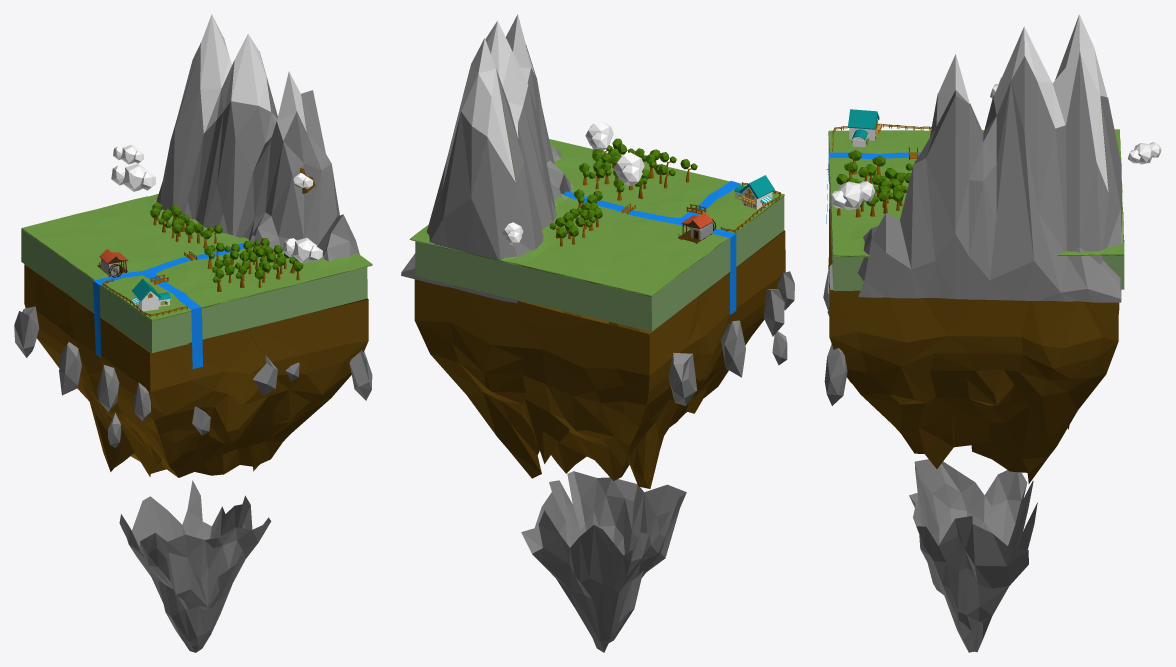
Rendered from PLATFORM.glb.
3 renders of one model, left to right at view 1: azimuth 30°, elevation 25°; view 2: azimuth 150°, elevation 25°; view 3: azimuth 270°, elevation 25°, orthographic. The views are drawn at different scales.
Parts seen in each view (by area): view 1: Plane_Rock_0, Plane_Dirt_0, Plane_Grround_0, Würfel, Plane_snow_0, Plane_Water_0, Cloud.004, Cloud.003; view 2: Plane_Dirt_0, Plane_Rock_0, Plane_Grround_0, Würfel, Plane_snow_0, Plane_Water_0, Cloud.004, Cloud.003; view 3: Plane_Rock_0, Plane_Dirt_0, Plane_snow_0, Plane_Grround_0, Würfel, Cloud.003, Cloud.
Part boxes in pixels (box(x1,y1,x2,y2)): Plane_Rock_0: box(14, 37, 372, 652); Plane_Dirt_0: box(24, 70, 368, 477); Plane_Grround_0: box(21, 194, 372, 321); Würfel: box(21, 199, 367, 352); Plane_snow_0: box(174, 14, 306, 140); Plane_Water_0: box(93, 243, 244, 368); Cloud.004: box(111, 163, 155, 191); Cloud.003: box(282, 237, 322, 263); Plane_Dirt_0: box(414, 107, 785, 488); Plane_Rock_0: box(401, 45, 794, 652); Plane_Grround_0: box(409, 139, 784, 296); Würfel: box(415, 193, 784, 331); Plane_snow_0: box(442, 14, 535, 187); Plane_Water_0: box(563, 181, 740, 314); Cloud.004: box(614, 152, 644, 185); Cloud.003: box(585, 121, 613, 150); Plane_Rock_0: box(823, 51, 1121, 652); Plane_Dirt_0: box(826, 97, 1119, 483); Plane_snow_0: box(936, 14, 1108, 192); Plane_Grround_0: box(828, 129, 1124, 257); Würfel: box(828, 145, 1124, 290); Cloud.003: box(829, 181, 875, 209); Cloud: box(1128, 142, 1161, 164).
Bounding box in the file's own units: 13.31 × 29.22 × 13.28.
Materials: 41 (19 with a texture image).
